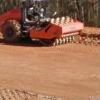Tractor: (4, 5, 87, 53)
